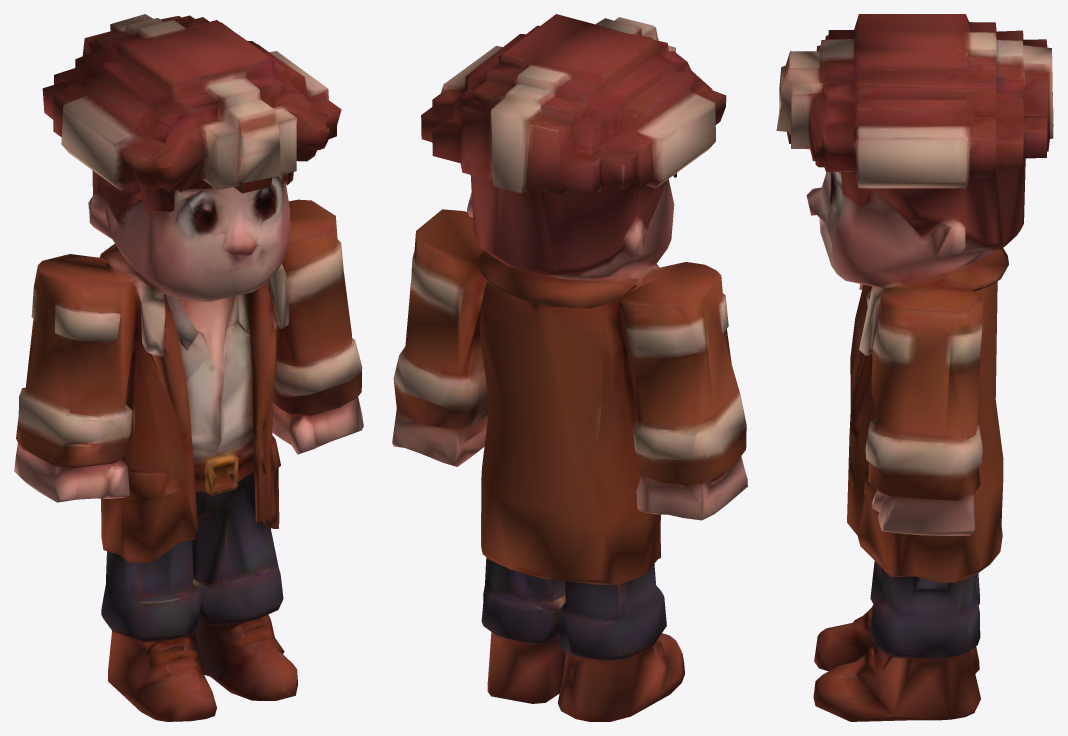
Rendered from full-pirate.glb.
The picture shows the model from 3 angles, left to right: view 1: azimuth 30°, elevation 25°; view 2: azimuth 150°, elevation 25°; view 3: azimuth 270°, elevation 25°; orthographic projection. The views are drawn at different scales.
Parts seen in each view (by area): view 1: material; view 2: material; view 3: material.
Boxes of the visible parts, bbox=[...] form: material: bbox=[14, 14, 363, 721]; material: bbox=[392, 14, 747, 721]; material: bbox=[776, 14, 1053, 721].
Bounding box in the file's own units: 1.01 × 1.9 × 0.7341.
1 material, 1 textured.
